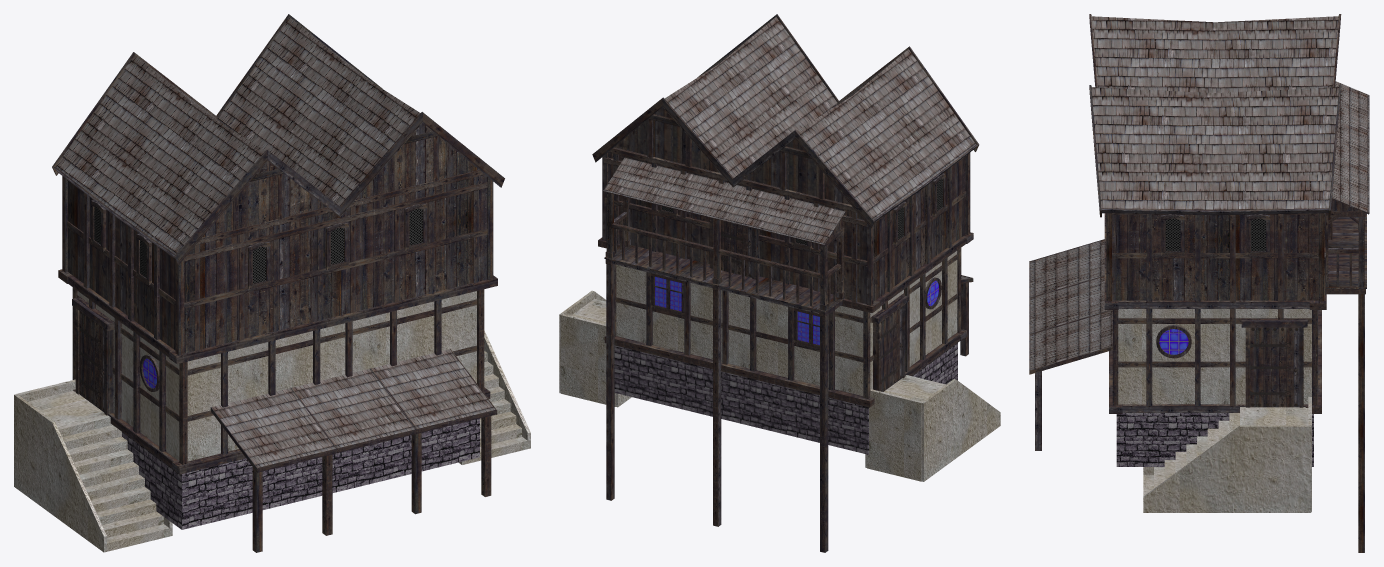
File: house61.dae
3 views of the same model, side by side, from view 1: azimuth 30°, elevation 25°; view 2: azimuth 150°, elevation 25°; view 3: azimuth 270°, elevation 25° (orthographic). The views are drawn at different scales.
Parts seen in each view (by area): view 1: House3_Roof, House3_Level2, House3_Level1, House3_Level2_Beams, House3_Level0, House3_Level1_Beams, Stair1Wide, Stair1Wide2, House3_Roof_Frame, Roof2Outer, Roof2Outer_001, Roof2Outer_002 (+12 smaller); view 2: House3_Roof, House3_Level2, House3_Level1, House3_Level0, House3_Level2_Beams, Balcony1Roof, House3_Level1_Beams, Balcony1Stilts, Balcony1, Stair1Wide2, House3_Roof_Frame, Stair1WideBack (+15 smaller); view 3: House3_Roof, House3_Level2, Stair1Wide1_001, House3_Level1, House3_Level1_Beams, House3_Level2_Beams, House3_Level0, Door1_001, Balcony1Roof, Balcony1, Stair1Wide_001, Roof2Outer_002 (+14 smaller).
Part boxes in pixels (x1,y1,x2,y2): House3_Roof: (56,17,420,254); House3_Level2: (68,123,487,353); House3_Level1: (77,291,476,461); House3_Level2_Beams: (62,131,493,355); House3_Level0: (122,418,479,529); House3_Level1_Beams: (73,288,484,464); Stair1Wide: (28,391,169,551); Stair1Wide2: (14,394,106,552); House3_Roof_Frame: (52,14,504,264); Roof2Outer: (212,388,335,467); Roof2Outer_001: (292,369,415,447); Roof2Outer_002: (372,349,495,428); House3_Roof: (664,17,975,219); House3_Level2: (607,107,965,303); House3_Level1: (616,251,957,395); House3_Level0: (614,343,957,454); House3_Level2_Beams: (602,114,970,305); Balcony1Roof: (603,157,845,244); House3_Level1_Beams: (614,248,961,398); Balcony1Stilts: (606,264,828,552); Balcony1: (603,191,845,312); Stair1Wide2: (921,379,1000,481); House3_Roof_Frame: (592,14,979,228); Stair1WideBack: (867,389,922,481); House3_Roof: (1091,16,1338,209); House3_Level2: (1112,214,1318,300); Stair1Wide1_001: (1143,425,1311,512); House3_Level1: (1118,309,1311,404); House3_Level1_Beams: (1112,309,1317,405); House3_Level2_Beams: (1106,213,1325,301); House3_Level0: (1116,413,1313,466); Door1_001: (1250,327,1299,407); Balcony1Roof: (1332,81,1369,213); Balcony1: (1326,198,1369,288); Stair1Wide_001: (1143,407,1308,496); Roof2Outer_002: (1030,310,1112,370).
Bounding box in the file's own units: 10.72 × 7.9 × 11.37.
18 materials, 18 textured.
